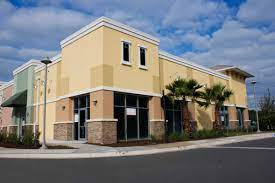Building House: (4, 21, 252, 140)
